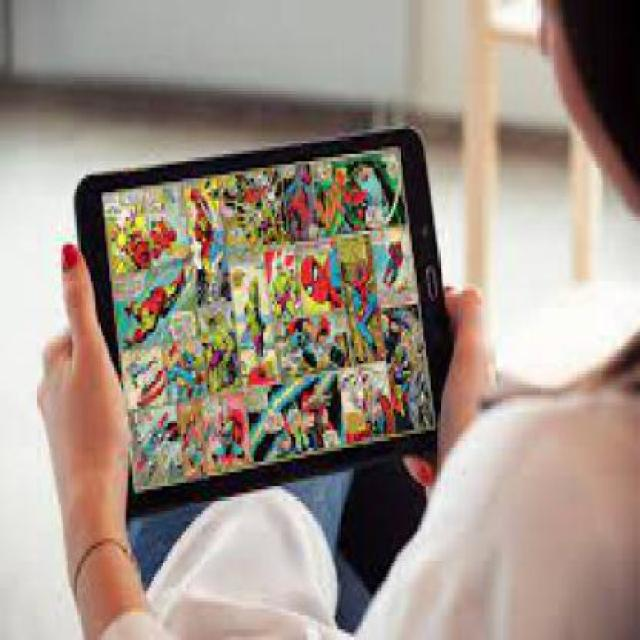tablet: (60, 144, 499, 516)
